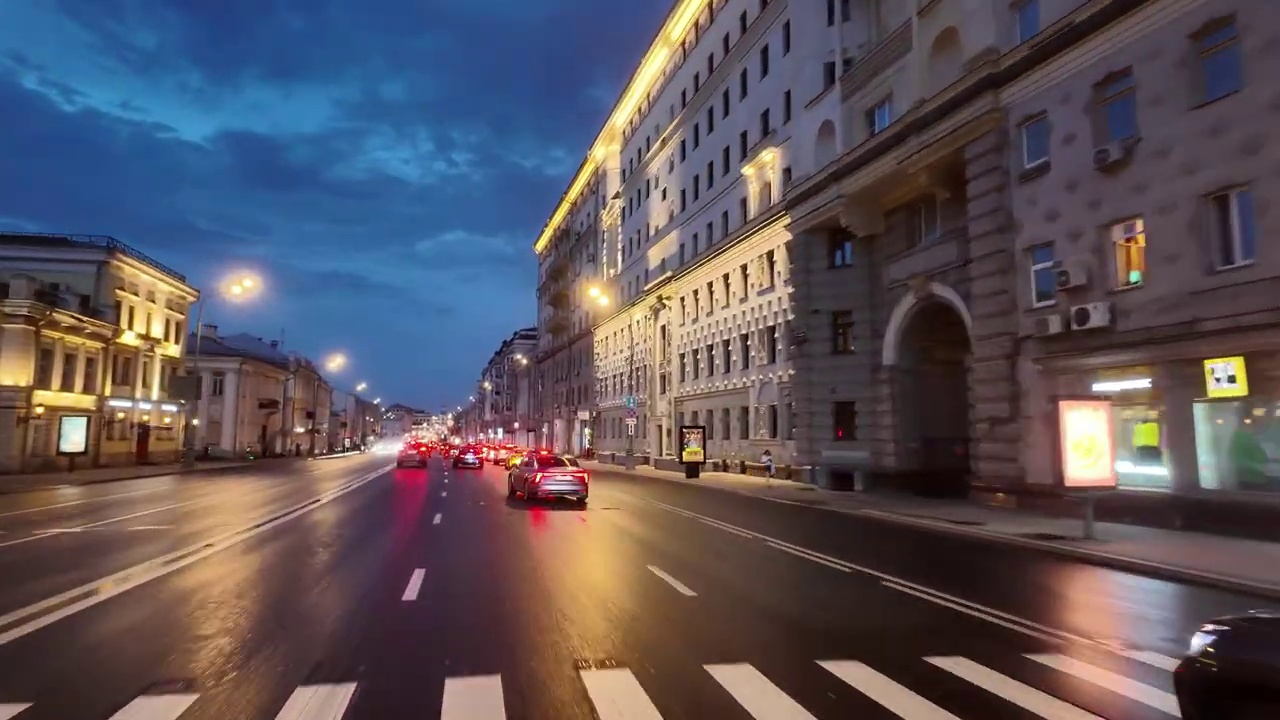acesa: (581, 279, 615, 312), (223, 271, 260, 301), (323, 350, 347, 374)
